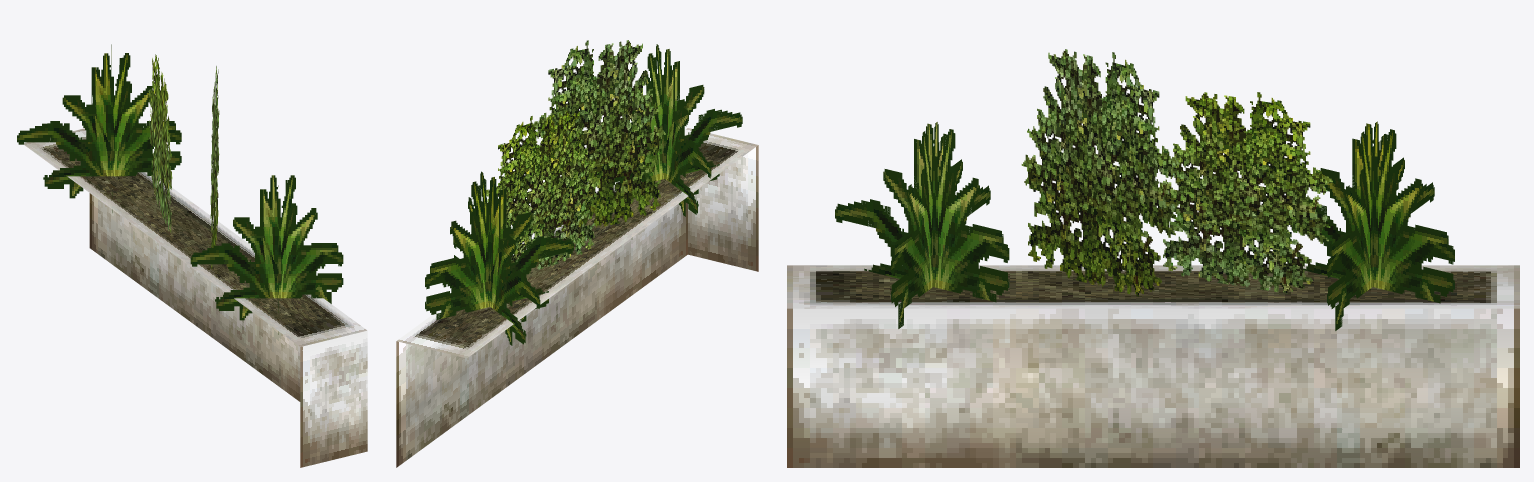
File: stage-palm-p6-683.glb
3 renders of one model, left to right at view 1: azimuth 30°, elevation 25°; view 2: azimuth 150°, elevation 25°; view 3: azimuth 270°, elevation 25°, orthographic. The views are drawn at different scales.
Size of the model in its own units: 1.38 by 3.09 by 5.
Materials: 4 (4 with a texture image).
